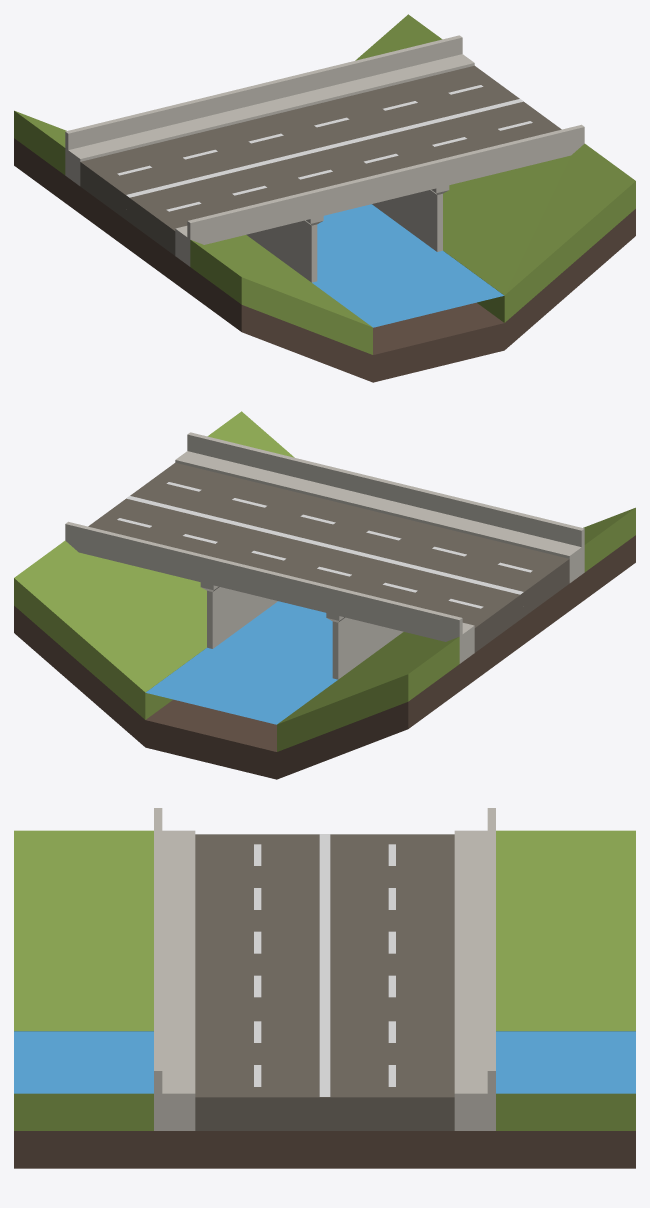
Rendered from mainroad-tile-bridge.fbx.
3 renders of one model, top to bottom at view 1: azimuth 30°, elevation 25°; view 2: azimuth 150°, elevation 25°; view 3: azimuth 270°, elevation 25°, orthographic. The views are drawn at different scales.
Visible parts, largest first — view 1: mainroad-tile-bridge; view 2: mainroad-tile-bridge; view 3: mainroad-tile-bridge.
Boxes of the visible parts, x1,y1,x2,y2 form: mainroad-tile-bridge: [14, 14, 635, 382]; mainroad-tile-bridge: [14, 411, 635, 779]; mainroad-tile-bridge: [14, 808, 635, 1168].
Size of the model in its own units: 3000 by 1120 by 3000.
